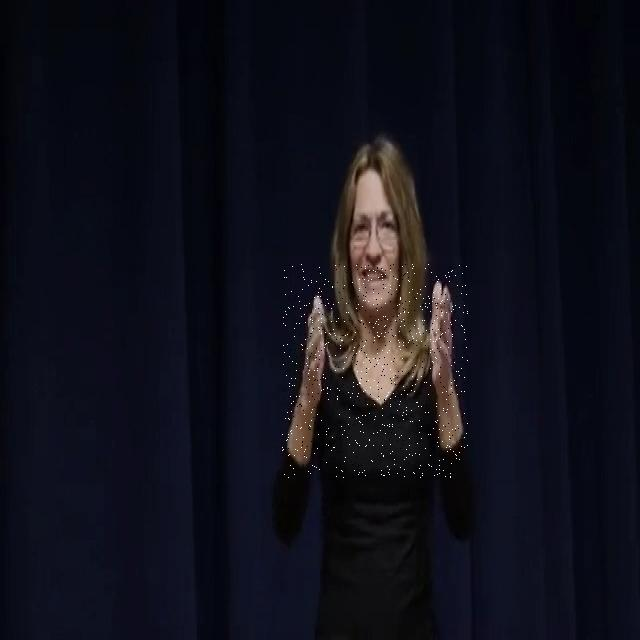manager: (282, 264, 468, 478)
